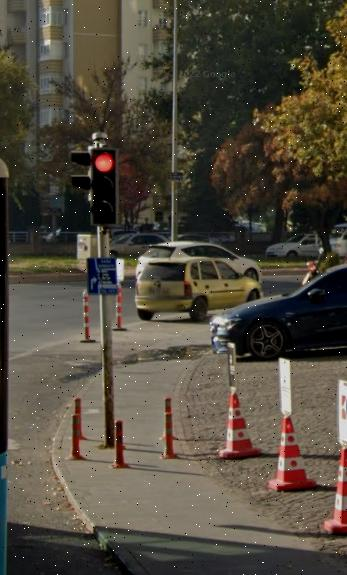redlight: (92, 152, 117, 227)
